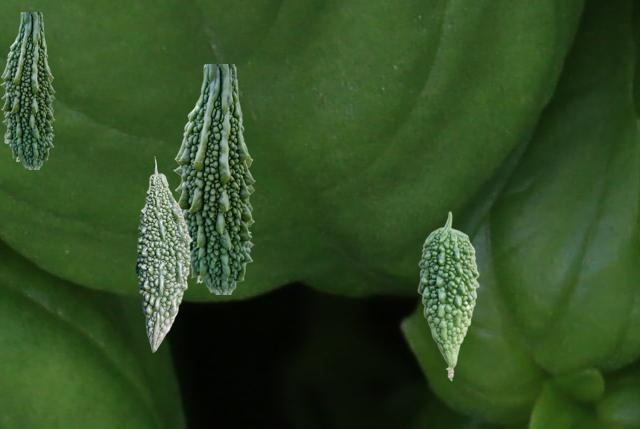ampalaya: (173, 64, 254, 293), (135, 156, 191, 351), (417, 211, 478, 380), (0, 12, 54, 168)
